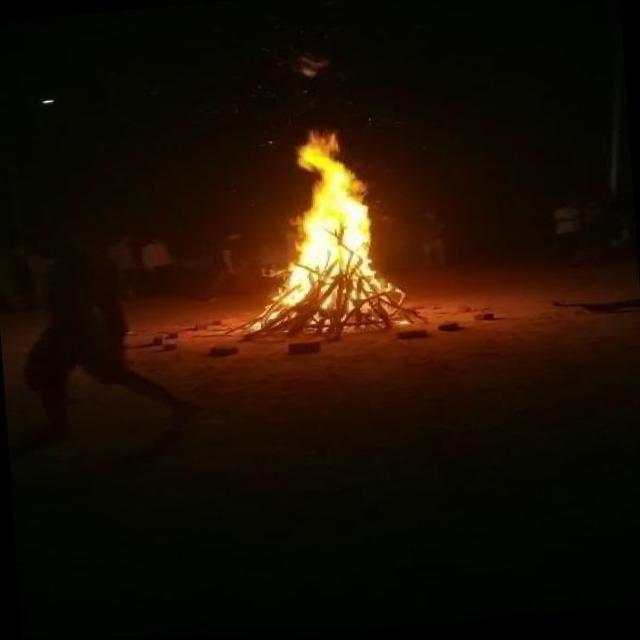fire: (231, 109, 409, 337)
